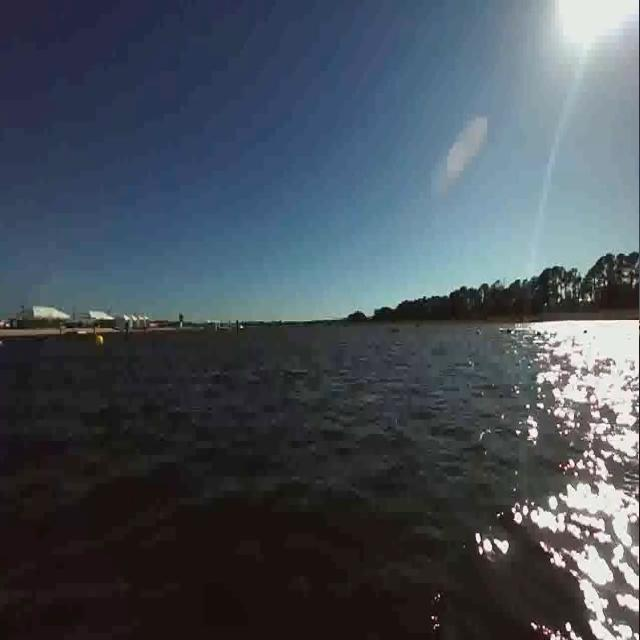yellow-buoy: (97, 336, 104, 346)
